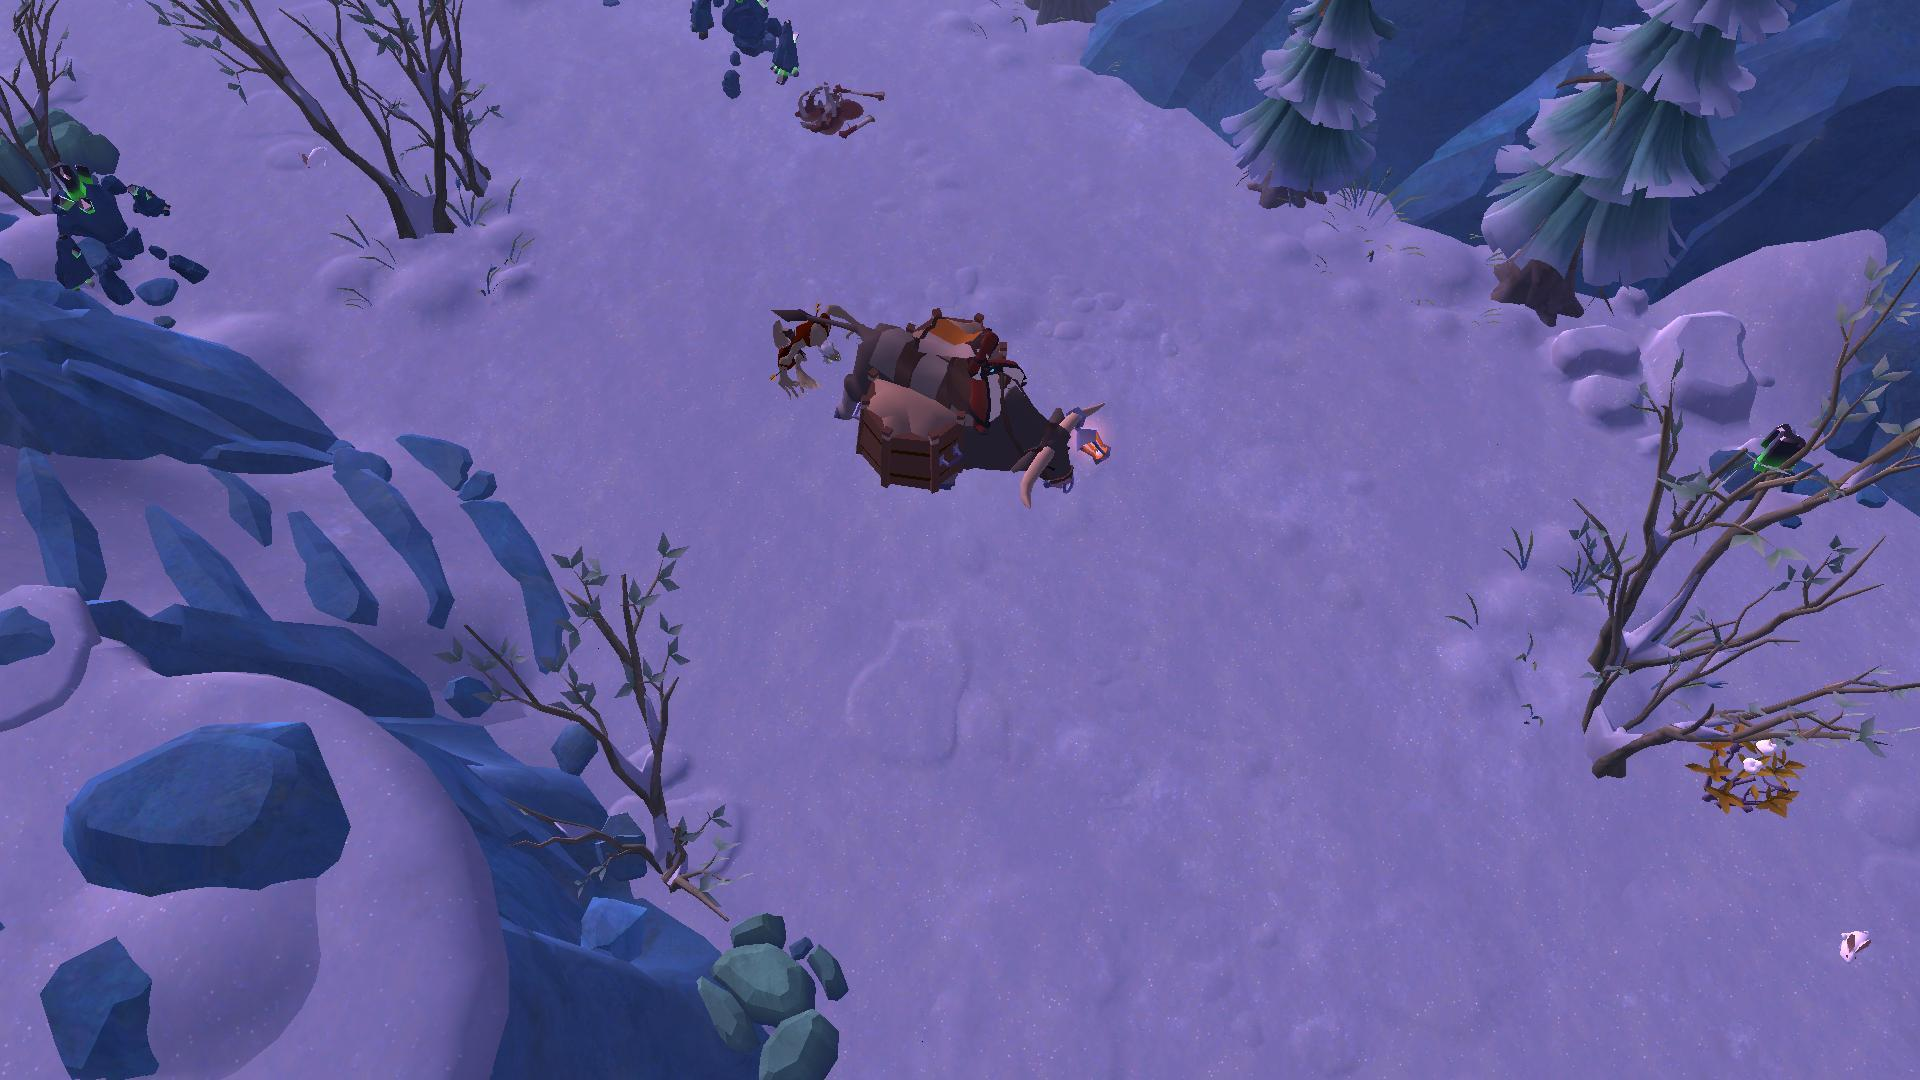enemy_factionUndead: (762, 281, 861, 402)
ore_t3: (1746, 415, 1809, 479)
rock_t3: (688, 910, 862, 1080)
